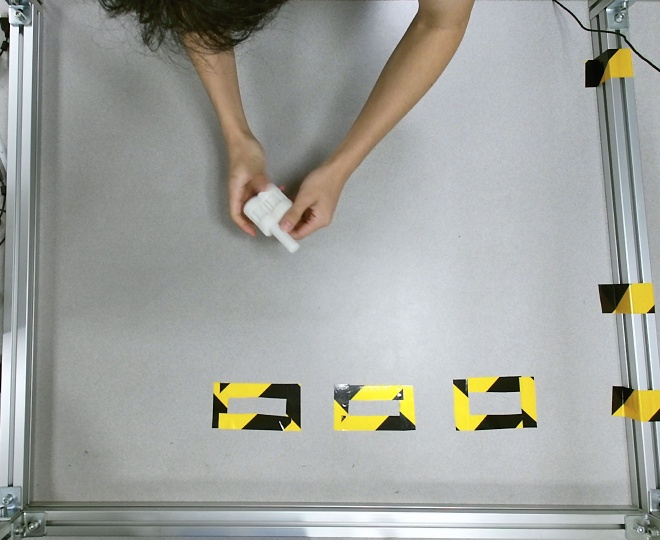stage_4: (243, 183, 300, 253)
